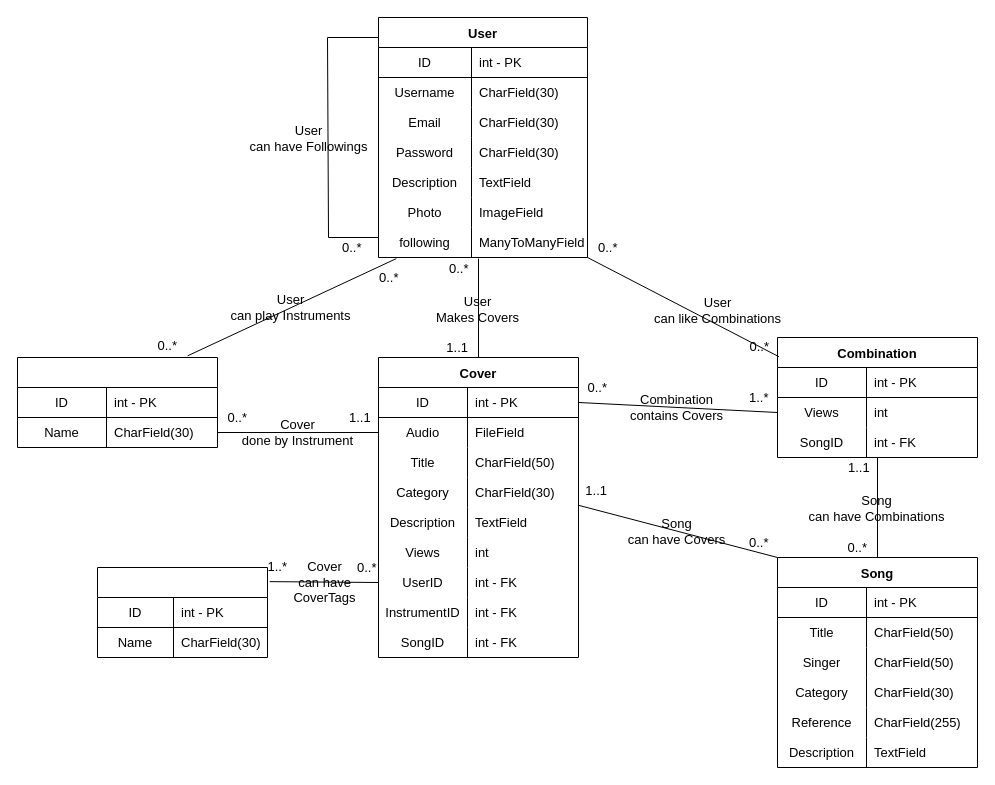
Some shapes in this 995 by 785 pixel diagram are drawn without their labels. The shapes that lost their labels are listed below. From the top down, each one's box as (x1, y1, x2, y2) in pixels, then its label:
(16, 356, 218, 448): Instrument
(96, 566, 268, 658): CoverTag
